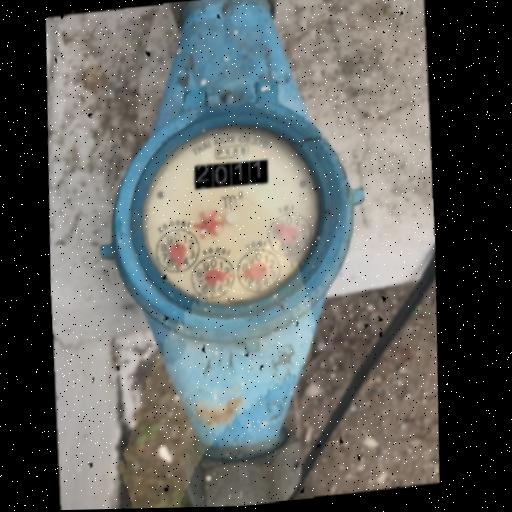0: (212, 163, 232, 188)
1: (248, 160, 270, 184), (231, 162, 250, 186)
2: (193, 165, 215, 190)
border_water_meter_number: (192, 158, 270, 191)
